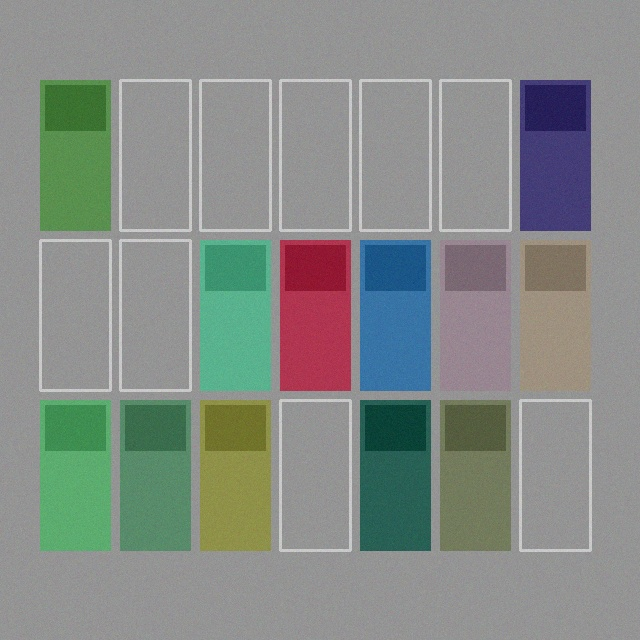space-empty: (120, 80, 190, 230), (200, 80, 270, 230), (280, 80, 350, 230), (360, 80, 430, 230), (440, 80, 510, 230), (40, 240, 110, 390), (120, 240, 190, 390), (280, 400, 350, 550), (520, 400, 590, 550)
space-occupied: (40, 80, 110, 230), (520, 80, 590, 230), (200, 240, 270, 390), (280, 240, 350, 390), (360, 240, 430, 390), (440, 240, 510, 390), (520, 240, 590, 390), (40, 400, 110, 550), (120, 400, 190, 550), (200, 400, 270, 550), (360, 400, 430, 550), (440, 400, 510, 550)
